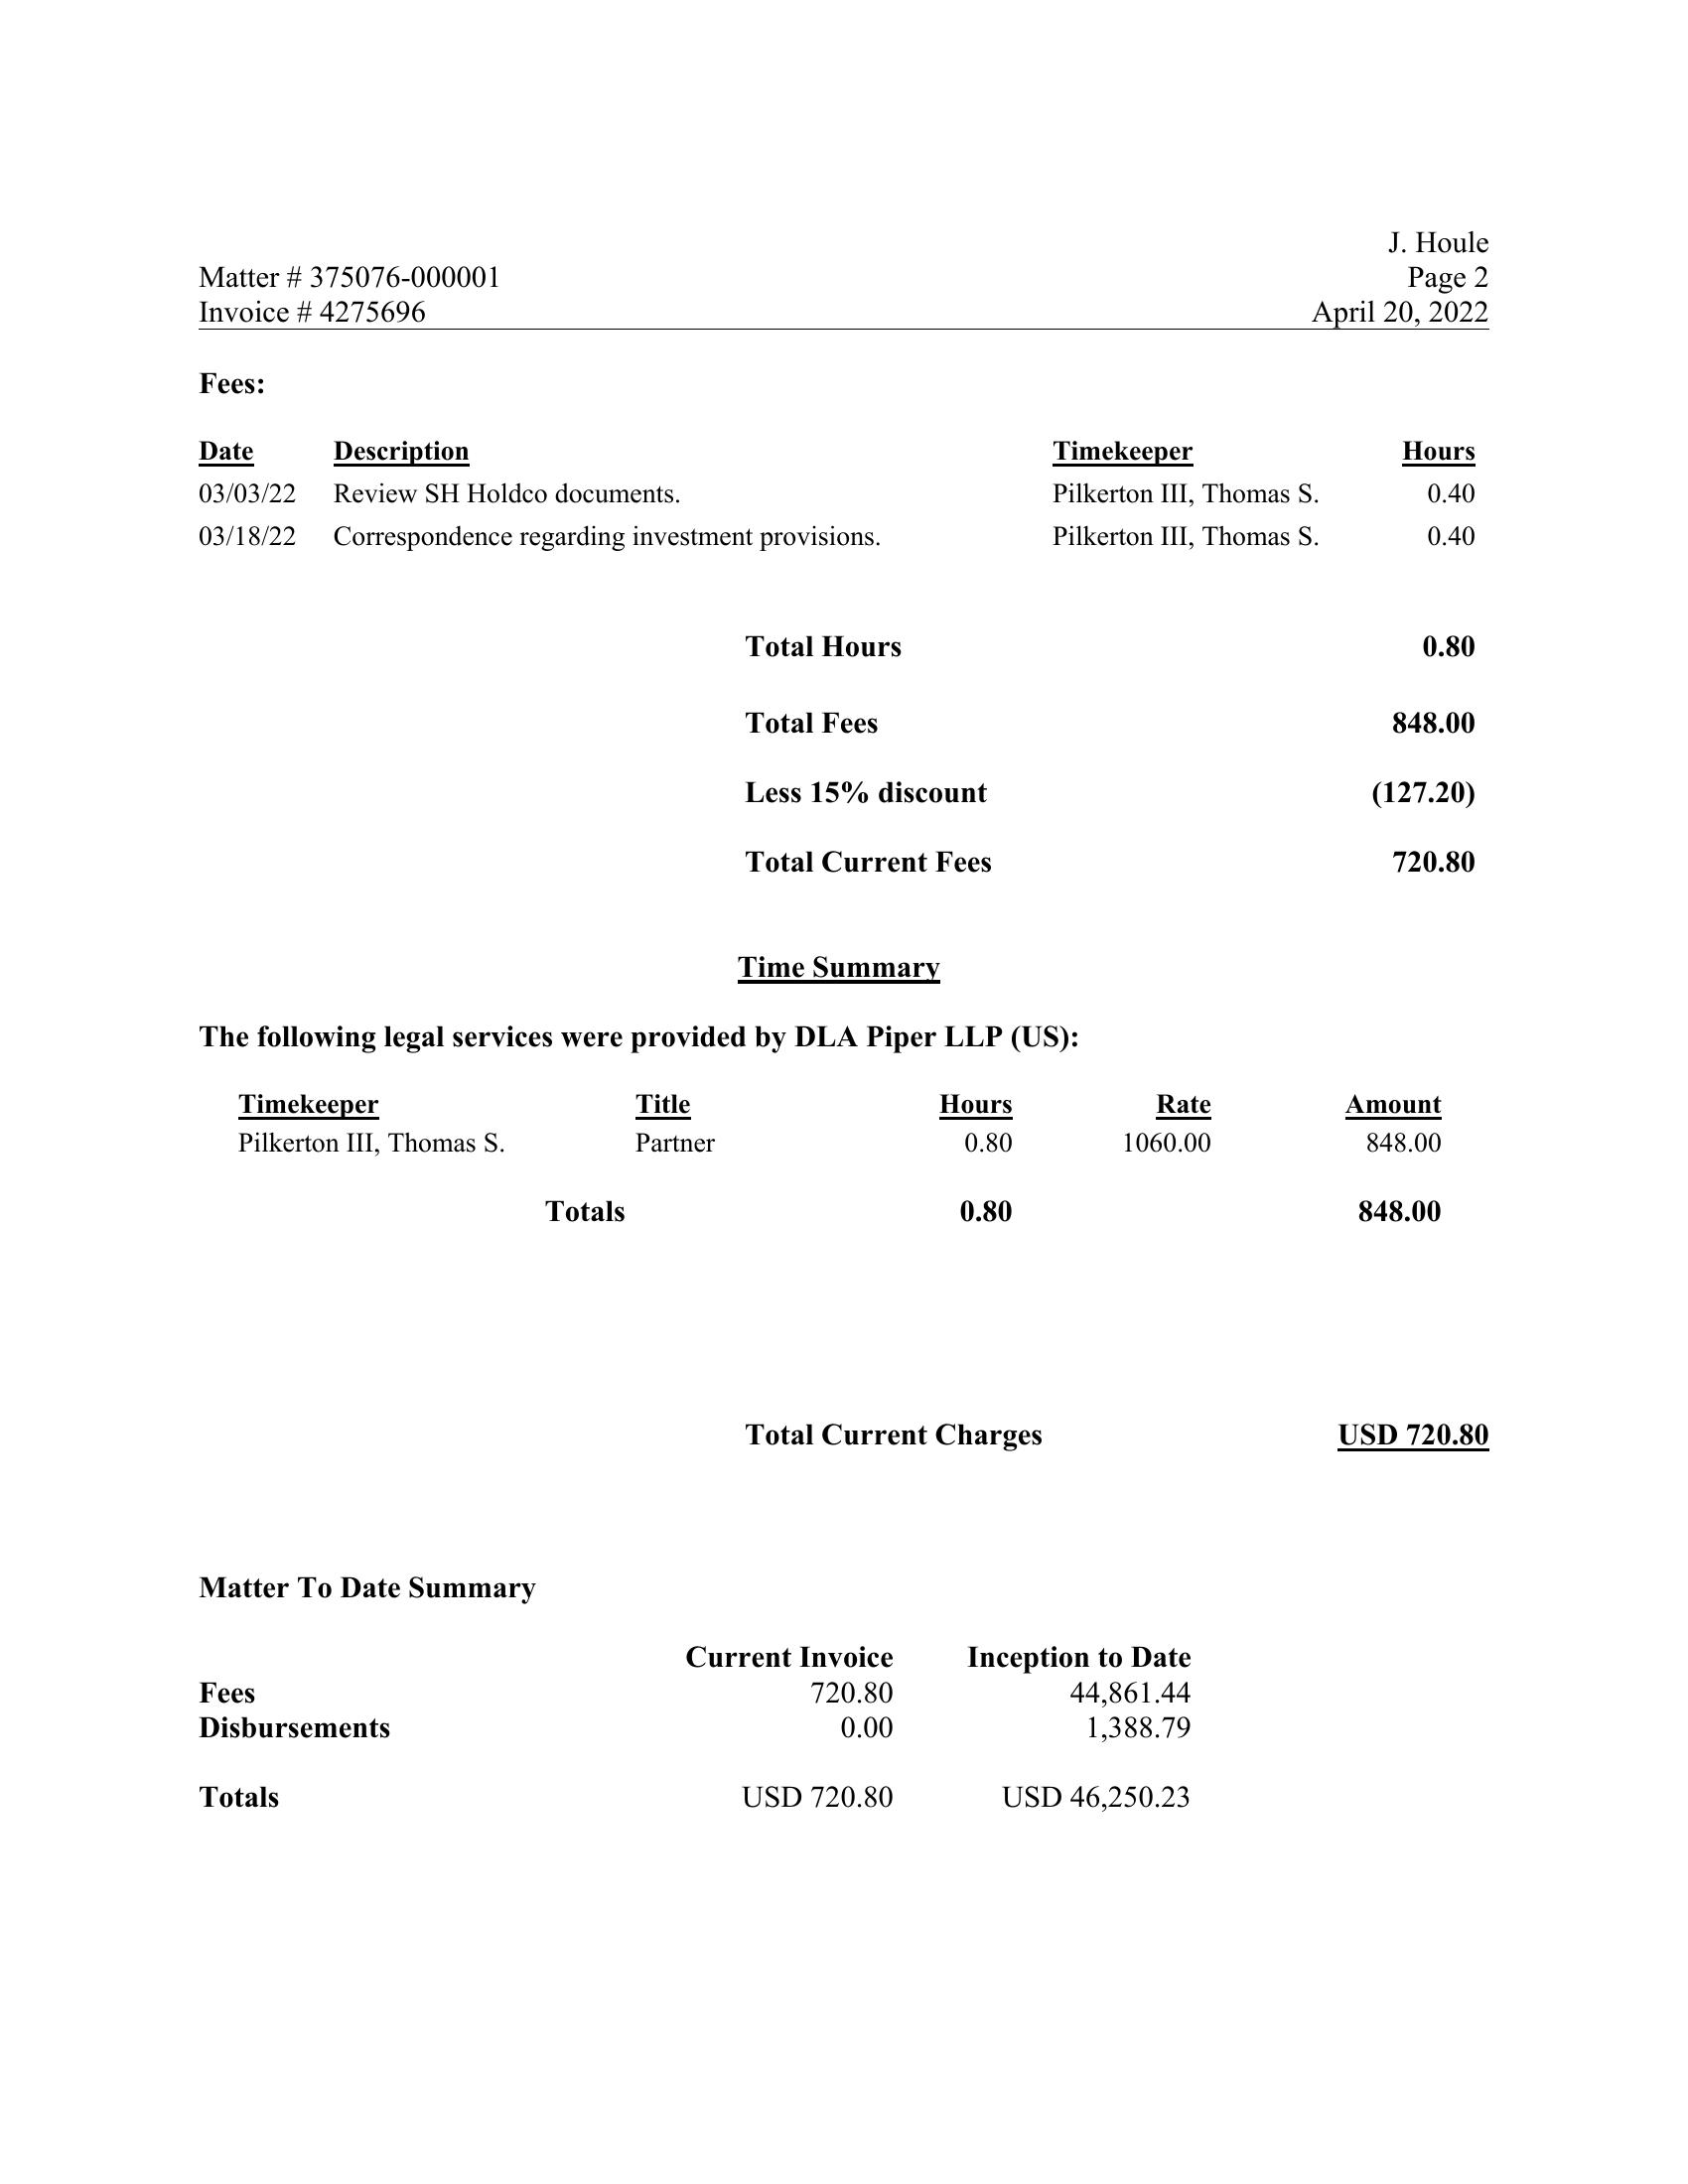table: (188, 1620, 1259, 1860), (195, 427, 1520, 583), (220, 1074, 1481, 1188)
